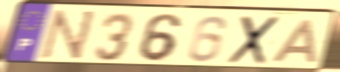3: (93, 11, 135, 63)
6: (135, 13, 184, 64), (187, 15, 228, 64)
A: (269, 18, 319, 65)
N: (37, 9, 99, 63)
X: (225, 15, 283, 66)
